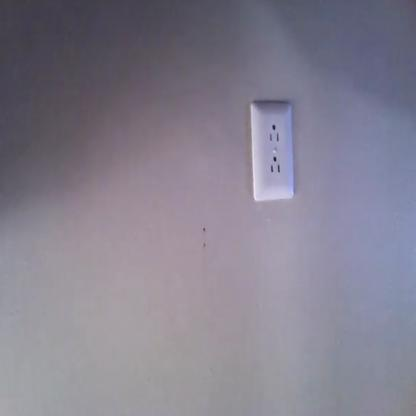OUTLET: (250, 102, 292, 201)
